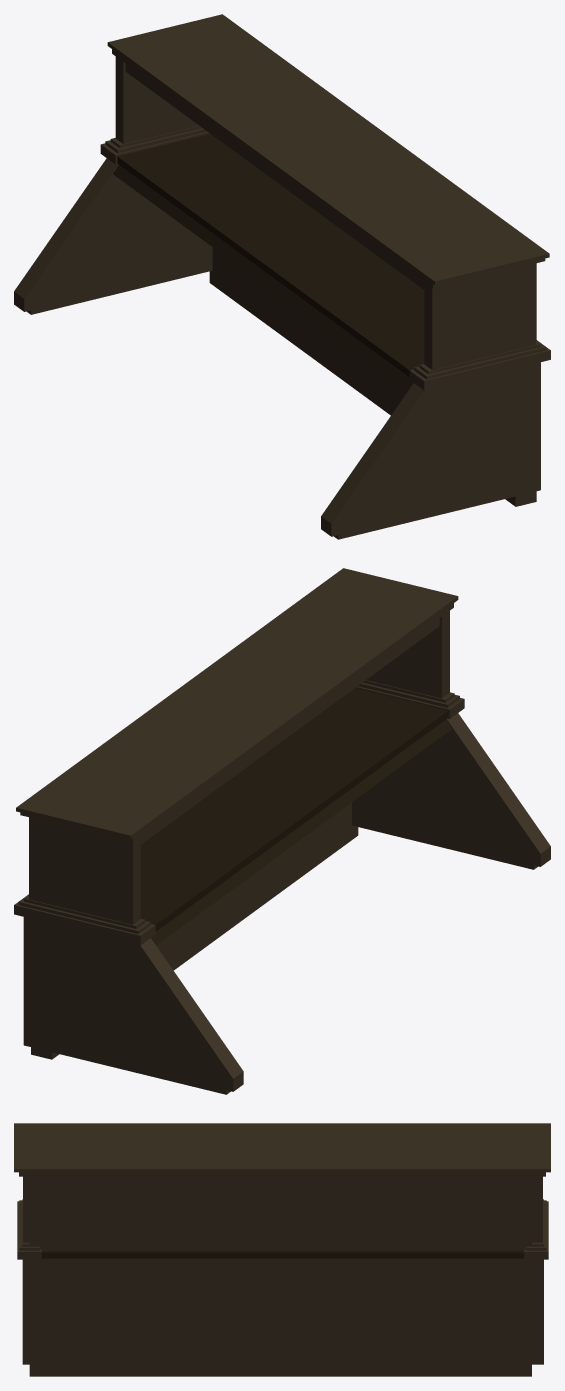
The model's file is shelf.fbx.
The picture shows the model from 3 angles, top to bottom: view 1: azimuth 30°, elevation 25°; view 2: azimuth 150°, elevation 25°; view 3: azimuth 270°, elevation 25°; orthographic projection. The views are drawn at different scales.
Parts seen in each view (by area): view 1: Cube.020; view 2: Cube.020; view 3: Cube.020.
Part boxes in pixels (x1,y1,x2,y2): Cube.020: [14, 14, 550, 539]; Cube.020: [14, 568, 550, 1094]; Cube.020: [14, 1123, 550, 1376].
Size of the model in its own units: 119 by 134 by 312.
